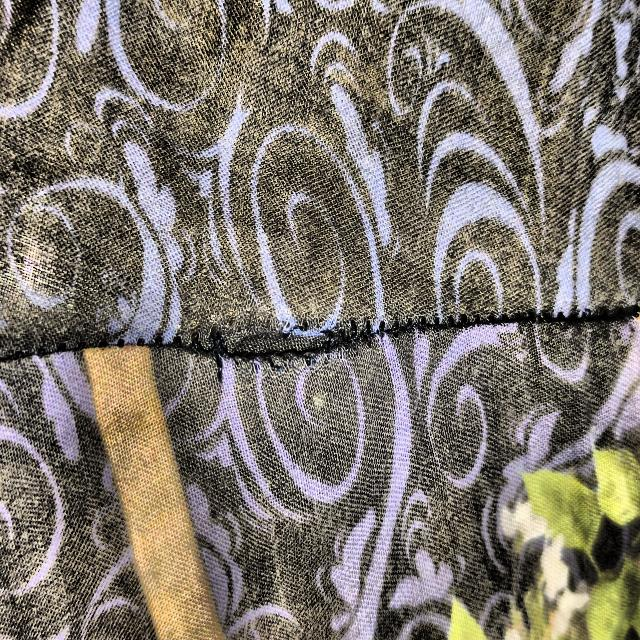seam: (161, 302, 417, 402)
